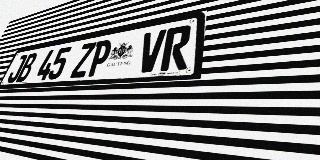4: (34, 49, 59, 81)
5: (46, 46, 72, 80)
B: (15, 52, 39, 82)
J: (6, 54, 28, 83)
P: (86, 39, 114, 77)
R: (160, 24, 192, 71)
V: (136, 29, 167, 73)
Z: (70, 42, 97, 78)
